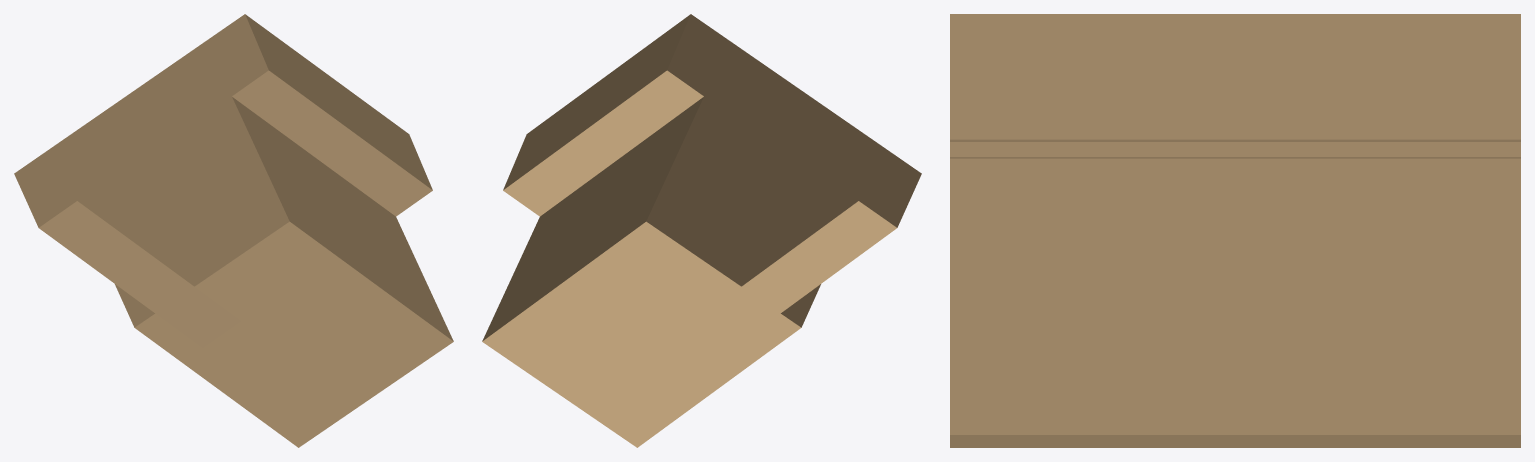
3 renders of one model, left to right at view 1: azimuth 30°, elevation 25°; view 2: azimuth 150°, elevation 25°; view 3: azimuth 270°, elevation 25°, orthographic. The views are drawn at different scales.
Visible parts, largest first — view 1: 0_3_1_0_3_0_3; view 2: 0_3_1_0_3_0_3; view 3: 0_3_1_0_3_0_3.
Boxes of the visible parts, x1,y1,x2,y2 form: 0_3_1_0_3_0_3: (14,14,453,447); 0_3_1_0_3_0_3: (482,14,921,447); 0_3_1_0_3_0_3: (950,14,1520,447).
Bounding box in the file's own units: 26.17 × 26.02 × 27.
